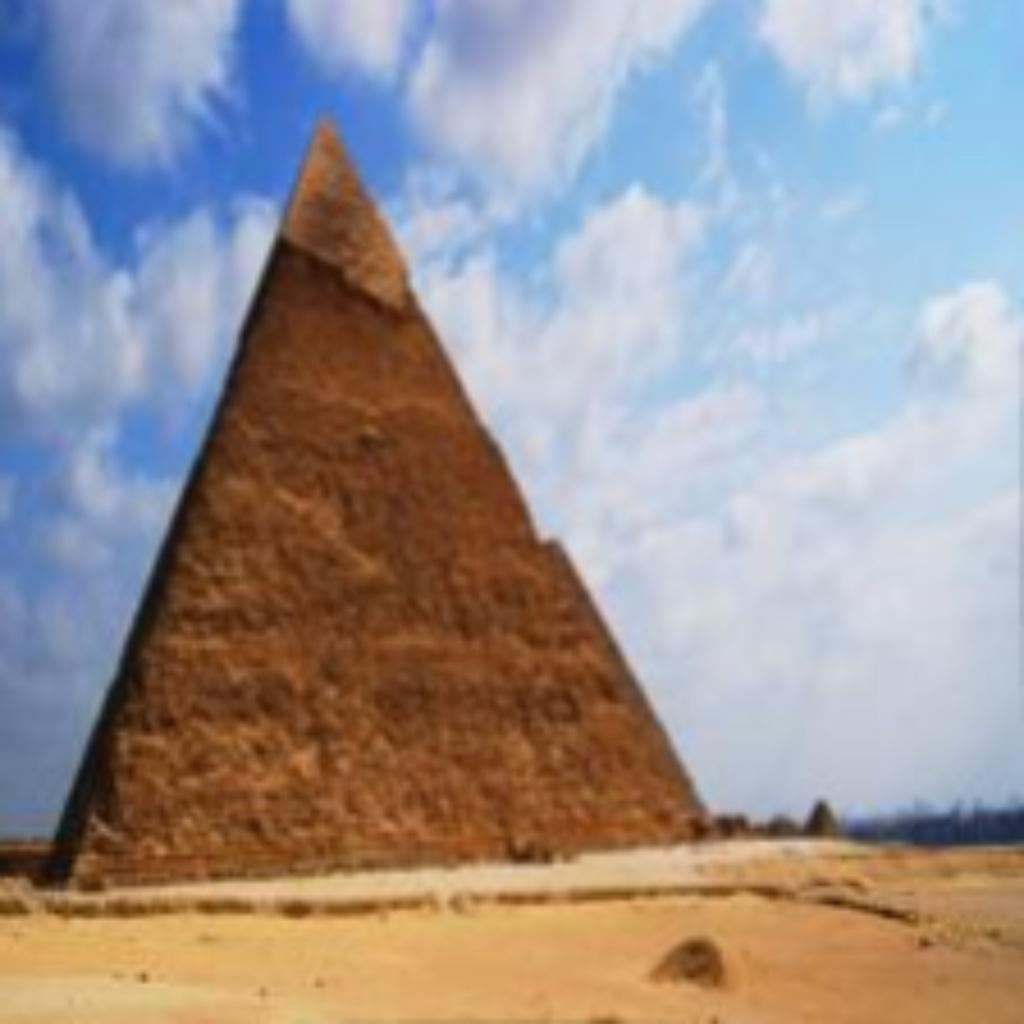Great Pyramids of Giza: (41, 106, 713, 892)
